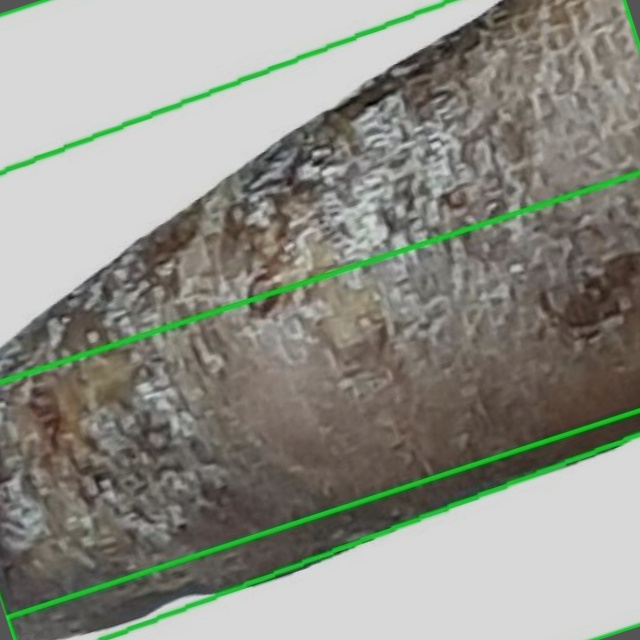Eczema: (0, 0, 639, 639), (0, 0, 639, 381)
